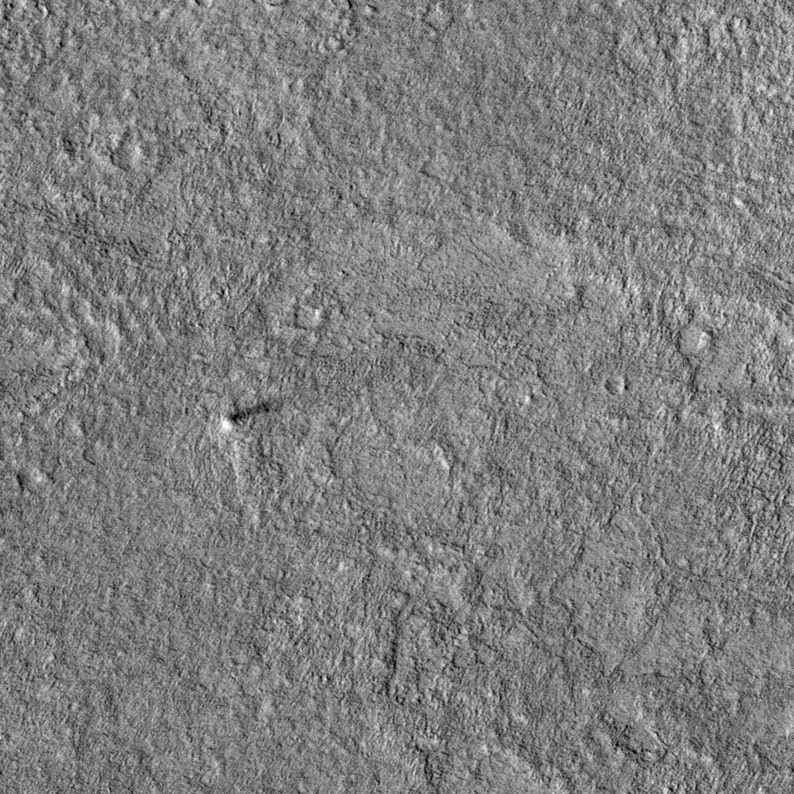dust_devil: (220, 400, 276, 435)
